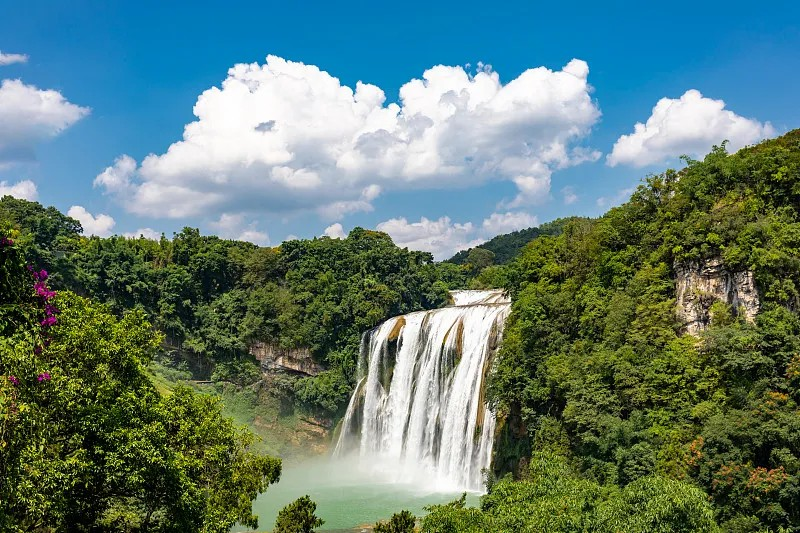Huangguoshu: (337, 289, 511, 493)
